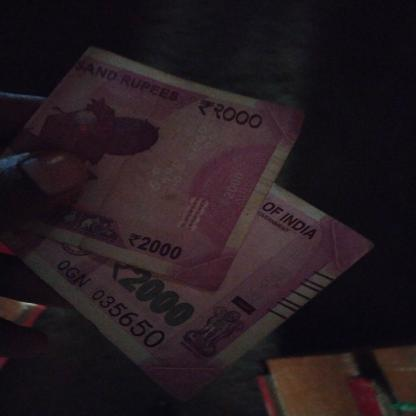New2000Back: (22, 52, 267, 262)
